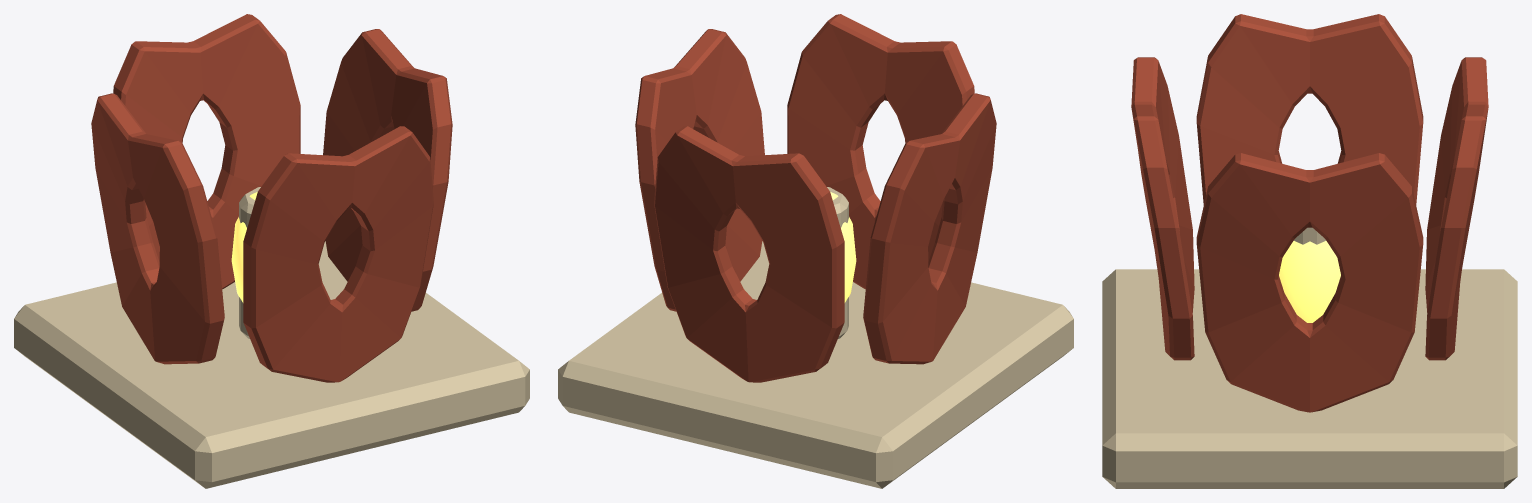
The model's file is RoofTileLantern.glb.
3 renders of one model, left to right at view 1: azimuth 30°, elevation 25°; view 2: azimuth 150°, elevation 25°; view 3: azimuth 270°, elevation 25°, orthographic. The views are drawn at different scales.
Parts seen in each view (by area): view 1: RoofTileLantern_Tiles, RoofTileLantern_LimestoneCore, RoofTileLantern_Glow; view 2: RoofTileLantern_Tiles, RoofTileLantern_LimestoneCore, RoofTileLantern_Glow; view 3: RoofTileLantern_Tiles, RoofTileLantern_LimestoneCore, RoofTileLantern_Glow.
Boxes of the visible parts, x1,y1,x2,y2 form: RoofTileLantern_Tiles: (91,14,452,382); RoofTileLantern_LimestoneCore: (14,187,529,488); RoofTileLantern_Glow: (231,192,257,302); RoofTileLantern_Tiles: (635,14,996,382); RoofTileLantern_LimestoneCore: (558,187,1073,488); RoofTileLantern_Glow: (830,192,856,302); RoofTileLantern_Tiles: (1131,14,1488,412); RoofTileLantern_LimestoneCore: (1102,227,1517,488); RoofTileLantern_Glow: (1279,241,1340,322).
Size of the model in its own units: 0.44 by 0.3739 by 0.44.
